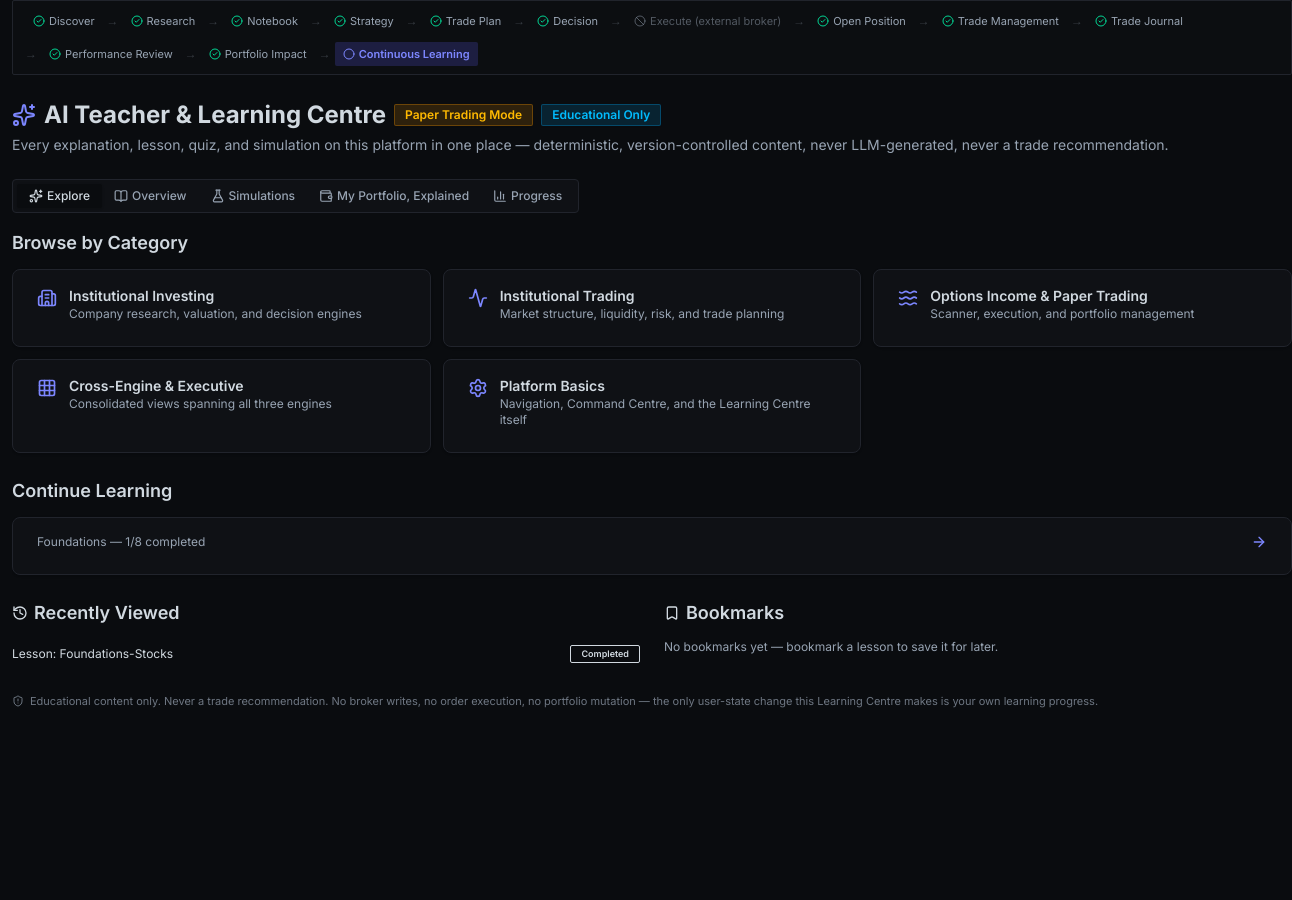
Scenario: LearningCentre › switching to Progress shows real lesson/glossary/strategy counts and quiz progress
Step 1. Click the tab "Progress" → (528, 196), box x1=481 y1=184 x2=574 y2=208
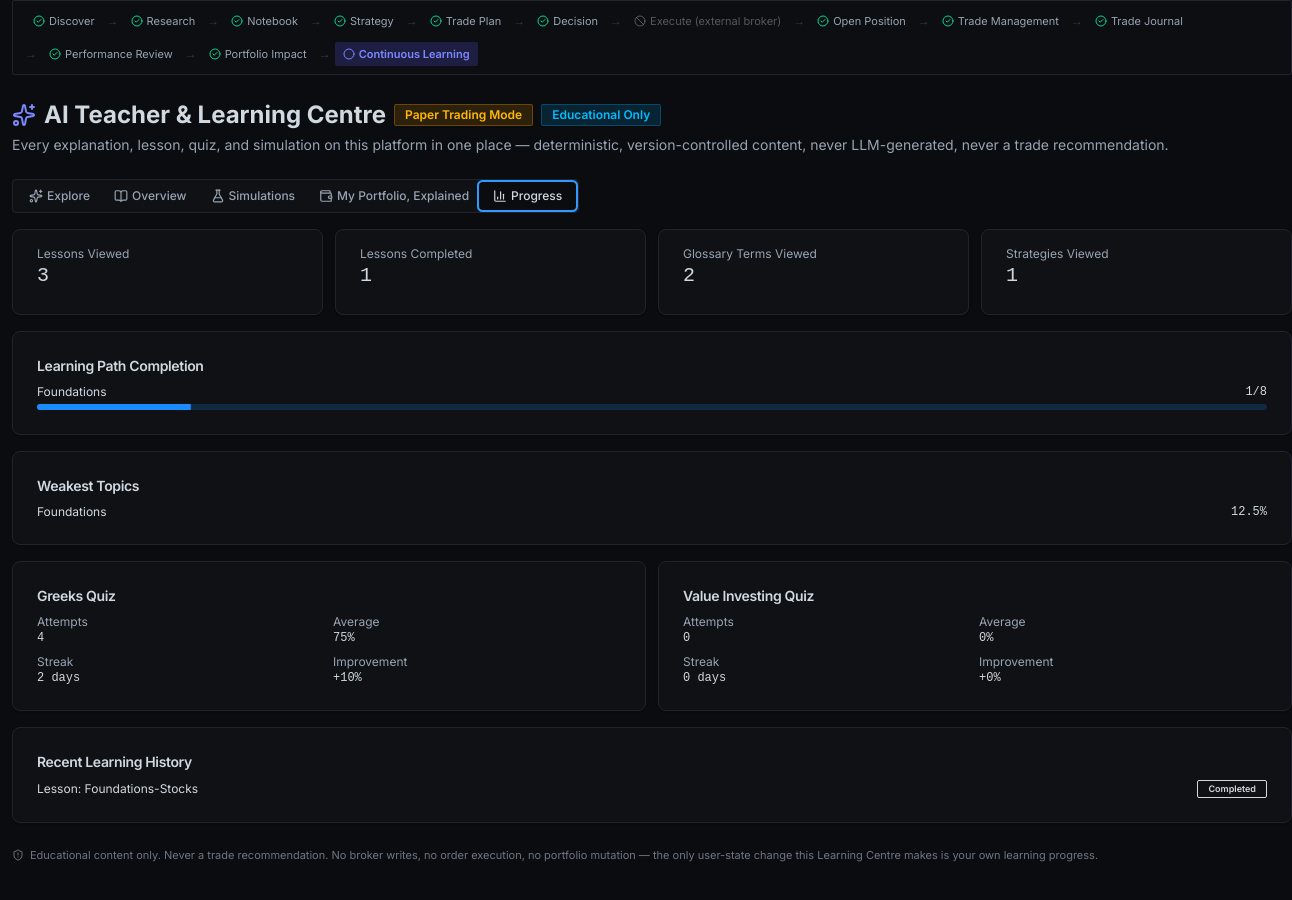
Check: the text with test id "text-lessons-viewed" reads "3", box x1=37 y1=264 x2=49 y2=287
Check: the text with test id "text-lessons-completed" reads "1", box x1=360 y1=264 x2=372 y2=287
Check: the element with test id "progress-path-foundations" is shown, box x1=37 y1=384 x2=1267 y2=410
